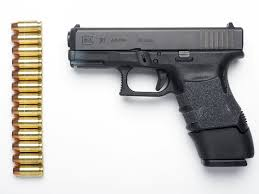gun: (66, 19, 256, 175)
